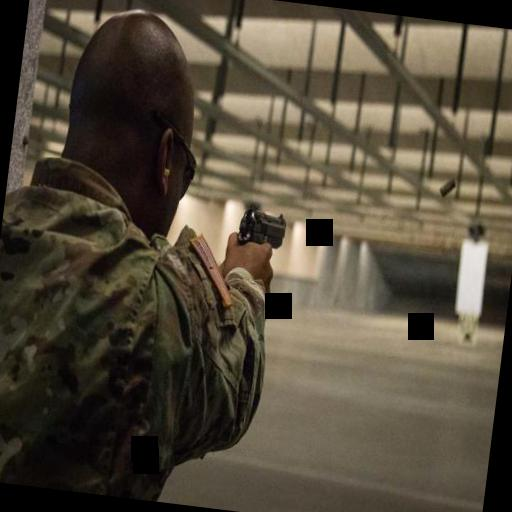Handgun: (231, 201, 287, 267)
